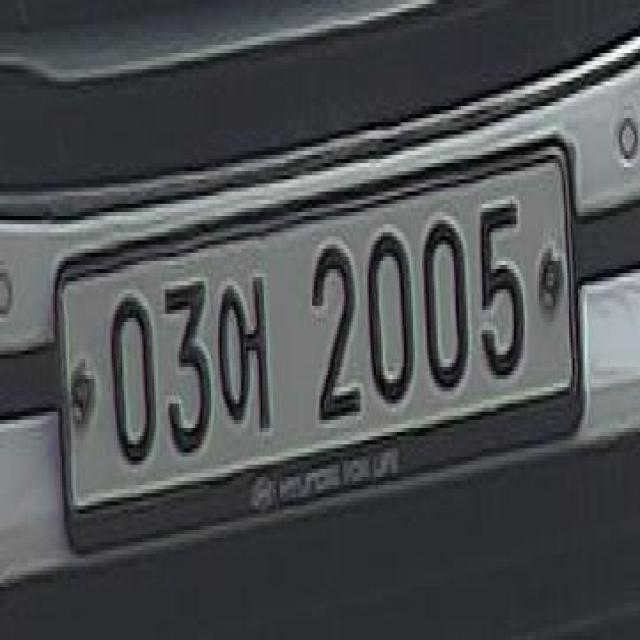illegal_plate: (51, 147, 583, 540)
